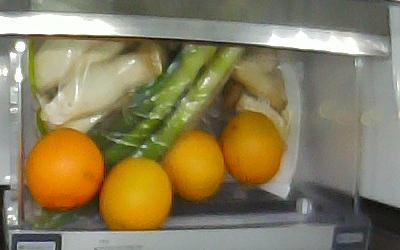orange: (27, 127, 104, 211), (97, 156, 172, 228), (222, 110, 288, 187), (161, 129, 225, 200)
